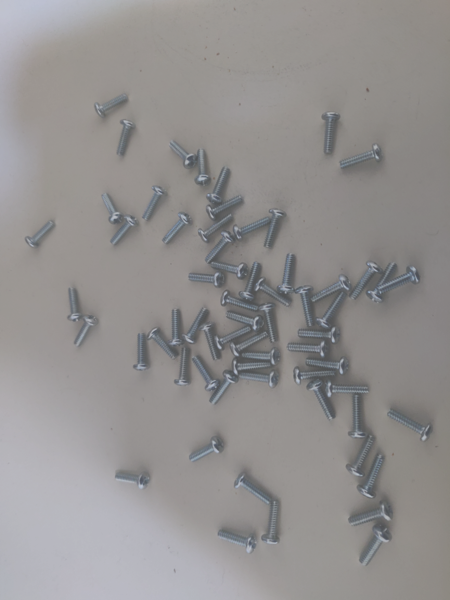shortscrew: (388, 409, 434, 443), (359, 524, 393, 567), (349, 261, 384, 301), (346, 434, 376, 478), (357, 454, 386, 499), (377, 265, 421, 294), (367, 262, 398, 303), (315, 291, 348, 329), (233, 473, 272, 505), (307, 380, 336, 422), (348, 500, 393, 527), (311, 274, 352, 303), (254, 277, 292, 308), (340, 143, 383, 170), (198, 213, 235, 243), (209, 370, 239, 406), (147, 327, 179, 360), (205, 230, 236, 264), (181, 308, 209, 345), (230, 331, 268, 358), (162, 212, 193, 245), (218, 530, 258, 555), (193, 355, 220, 392), (206, 195, 244, 221), (206, 166, 231, 205), (233, 216, 272, 241), (214, 326, 253, 351), (348, 395, 370, 439), (264, 208, 287, 250), (190, 437, 225, 464), (24, 220, 56, 249), (239, 262, 262, 302), (143, 186, 167, 223), (94, 94, 129, 119), (110, 215, 138, 246), (306, 357, 349, 377), (169, 141, 198, 170), (261, 501, 280, 545), (221, 290, 259, 312), (226, 311, 264, 333), (74, 315, 99, 348), (199, 322, 220, 361), (298, 326, 341, 345), (325, 380, 370, 398), (115, 119, 136, 157), (277, 253, 296, 295), (294, 367, 336, 386), (259, 303, 278, 344), (322, 112, 340, 155), (287, 341, 330, 359), (101, 192, 124, 225), (240, 370, 279, 389), (242, 347, 281, 366), (296, 286, 314, 327), (211, 261, 248, 280), (232, 359, 272, 376), (174, 348, 191, 386), (115, 472, 150, 490), (188, 271, 225, 288), (134, 333, 150, 371), (195, 149, 211, 186), (68, 287, 83, 322)
